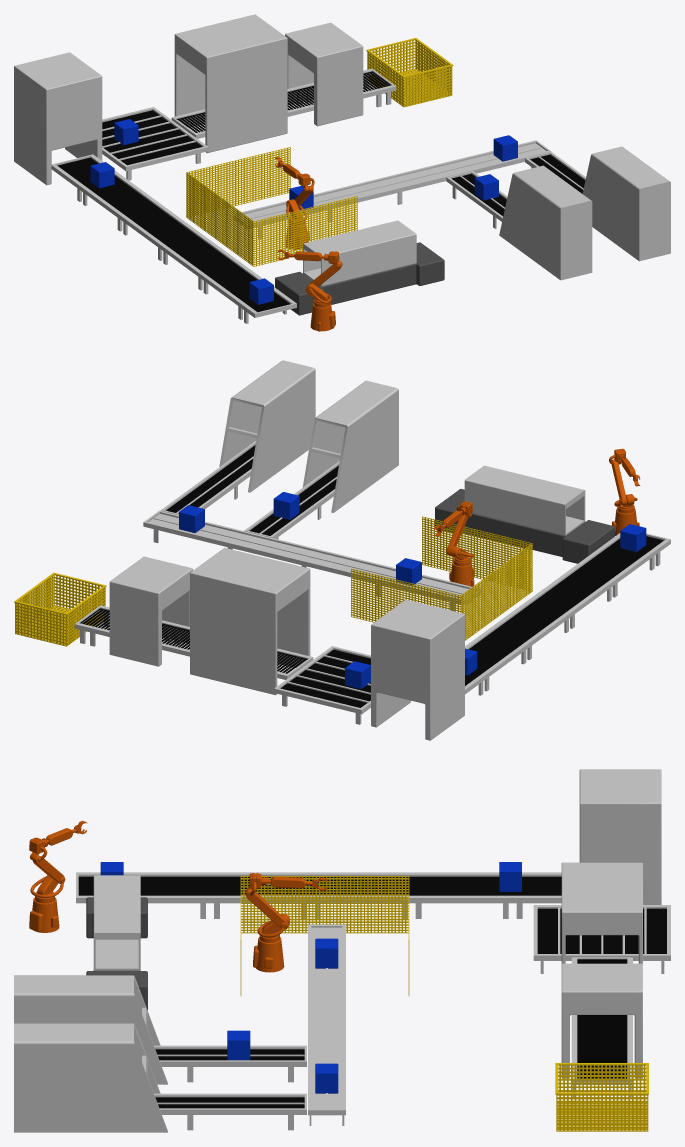
3 views of the same model, one above another, from view 1: azimuth 30°, elevation 25°; view 2: azimuth 150°, elevation 25°; view 3: azimuth 270°, elevation 25° (orthographic). The views are drawn at different scales.
Parts seen in each view (by area): view 1: 立方体_1_4, 立方体_4_2, 立方体_2_11, 立方体_2_10, 立_1, 立, 立方体_8, 立方体_4_4, 立方体_2_9, 篮子, 立方体_3_11, 立方体_4_5 (+12 smaller); view 2: 立方体_1_4, 立方体_2_11, 立方体_4_2, 立方体_2_10, 立_1, 立, 立方体_8, 立方体_4_4, 立方体_2_9, 篮子, 立方体_3_11, 立方体_4_5 (+11 smaller); view 3: 立, 立方体_2_10, 立方体_2_11, 立方体_4_2, 立_1, 立方体_1_4, 篮子, 立方体_2_9, 立方体_8, 立方体_4_5, 立方体_4_4, 立方体_2_8 (+11 smaller).
Boxes of the visible parts, left/top/right/bottom form: 立方体_1_4: left=174, top=14, right=287, bottom=153; 立方体_4_2: left=186, top=147, right=357, bottom=266; 立方体_2_11: left=14, top=52, right=102, bottom=185; 立方体_2_10: left=51, top=154, right=296, bottom=317; 立_1: left=499, top=165, right=592, bottom=280; 立: left=582, top=146, right=670, bottom=261; 立方体_8: left=285, top=22, right=363, bottom=126; 立方体_4_4: left=303, top=220, right=416, bottom=286; 立方体_2_9: left=234, top=140, right=551, bottom=228; 篮子: left=366, top=38, right=453, bottom=107; 立方体_3_11: left=275, top=242, right=444, bottom=315; 立方体_4_5: left=102, top=107, right=208, bottom=171; 立方体_1_4: left=190, top=547, right=310, bottom=695; 立方体_2_11: left=371, top=599, right=464, bottom=740; 立方体_4_2: left=351, top=516, right=532, bottom=640; 立方体_2_10: left=465, top=533, right=670, bottom=694; 立_1: left=302, top=380, right=398, bottom=512; 立: left=219, top=360, right=315, bottom=492; 立方体_8: left=109, top=556, right=192, bottom=666; 立方体_4_4: left=464, top=465, right=585, bottom=535; 立方体_2_9: left=143, top=510, right=480, bottom=604; 篮子: left=14, top=572, right=106, bottom=646; 立方体_3_11: left=435, top=489, right=614, bottom=563; 立方体_4_5: left=274, top=646, right=370, bottom=714; 立: left=14, top=1023, right=167, bottom=1132; 立方体_2_10: left=76, top=872, right=561, bottom=903; 立方体_2_11: left=579, top=769, right=661, bottom=904; 立方体_4_2: left=240, top=876, right=409, bottom=995; 立_1: left=14, top=975, right=167, bottom=1084; 立方体_1_4: left=561, top=862, right=642, bottom=963; 篮子: left=555, top=1063, right=648, bottom=1131; 立方体_2_9: left=308, top=924, right=345, bottom=1115; 立方体_8: left=561, top=963, right=642, bottom=1078; 立方体_4_5: left=533, top=905, right=670, bottom=960; 立方体_4_4: left=93, top=875, right=140, bottom=970; 立方体_2_8: left=154, top=1093, right=306, bottom=1114.
Bounding box in the file's own units: 1258 × 290 × 1433.
